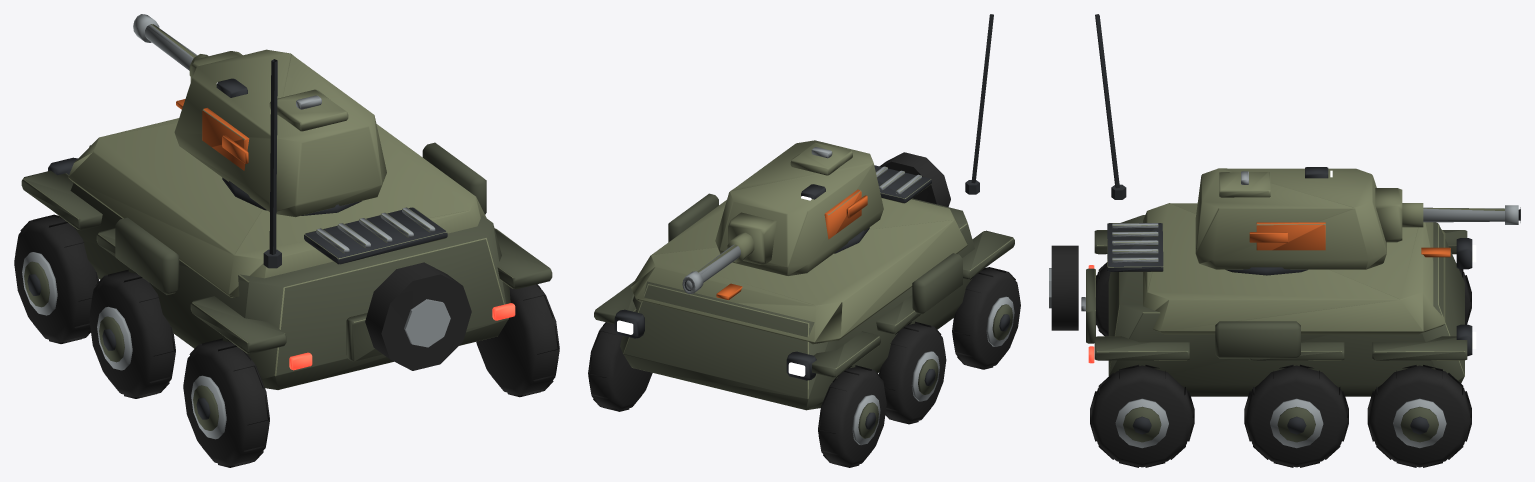
Rendered from apc.glb.
3 renders of one model, left to right at view 1: azimuth 30°, elevation 25°; view 2: azimuth 150°, elevation 25°; view 3: azimuth 270°, elevation 25°, orthographic. The views are drawn at different scales.
Parts seen in each view (by area): view 1: apc_body, apc_turret, apc_wheel_L1, apc_wheel_L2, apc_wheel_L3, apc_wheel_R1, apc_barrel; view 2: apc_body, apc_turret, apc_wheel_L3, apc_wheel_L1, apc_wheel_L2, apc_wheel_R3, apc_mantlet, apc_barrel; view 3: apc_body, apc_turret, apc_wheel_R1, apc_wheel_R3, apc_wheel_R2, apc_barrel, apc_mantlet, apc_wheel_L1.
Part boxes in pixels (x1,y1,x2,y2): apc_body: (21, 59, 552, 389); apc_turret: (174, 49, 386, 217); apc_wheel_L1: (183, 338, 269, 467); apc_wheel_L2: (89, 269, 175, 398); apc_wheel_L3: (14, 214, 98, 343); apc_wheel_R1: (476, 284, 559, 397); apc_barrel: (133, 14, 208, 76); apc_body: (594, 14, 1014, 410); apc_turret: (715, 140, 883, 275); apc_wheel_L3: (818, 365, 886, 467); apc_wheel_L1: (952, 267, 1020, 369); apc_wheel_L2: (879, 321, 946, 424); apc_wheel_R3: (588, 322, 652, 411); apc_mantlet: (728, 212, 776, 264); apc_barrel: (682, 232, 754, 294); apc_body: (1049, 14, 1476, 396); apc_turret: (1195, 167, 1386, 275); apc_wheel_R1: (1090, 364, 1194, 467); apc_wheel_R3: (1367, 365, 1471, 467); apc_wheel_R2: (1244, 364, 1348, 467); apc_barrel: (1402, 203, 1520, 227); apc_mantlet: (1375, 188, 1402, 242); apc_wheel_L1: (1096, 262, 1110, 336).
Size of the model in its own units: 0.5989 by 0.7027 by 0.8805.
3 materials, 2 textured.
